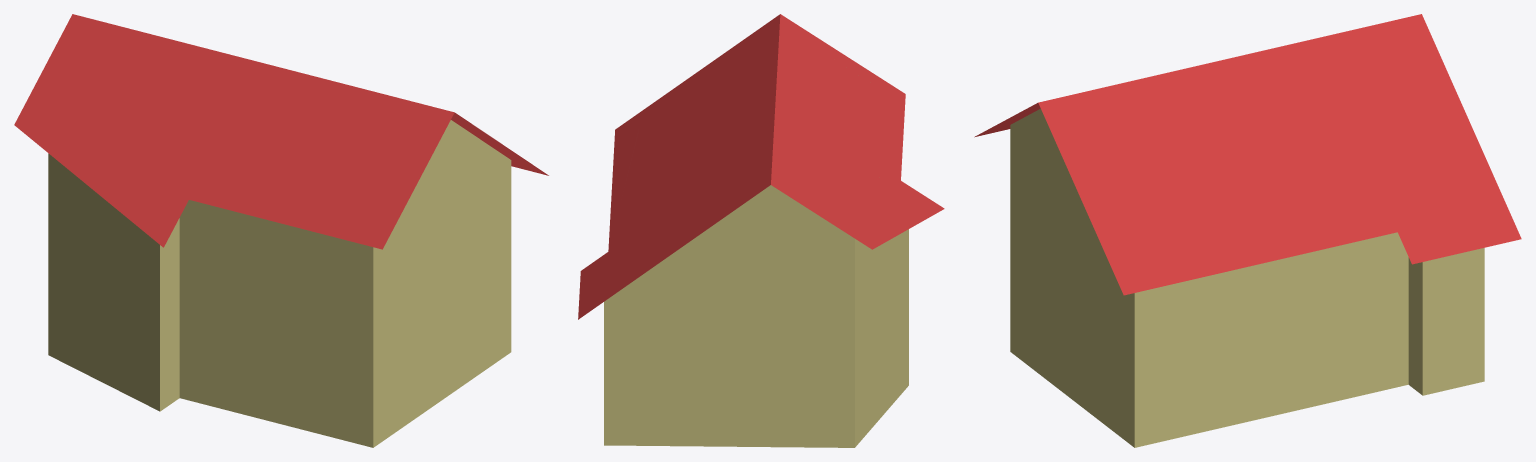
3 renders of one model, left to right at view 1: azimuth 30°, elevation 25°; view 2: azimuth 150°, elevation 25°; view 3: azimuth 270°, elevation 25°, orthographic. The views are drawn at different scales.
Bounding box in the file's own units: 16.93 × 20.08 × 11.91.
